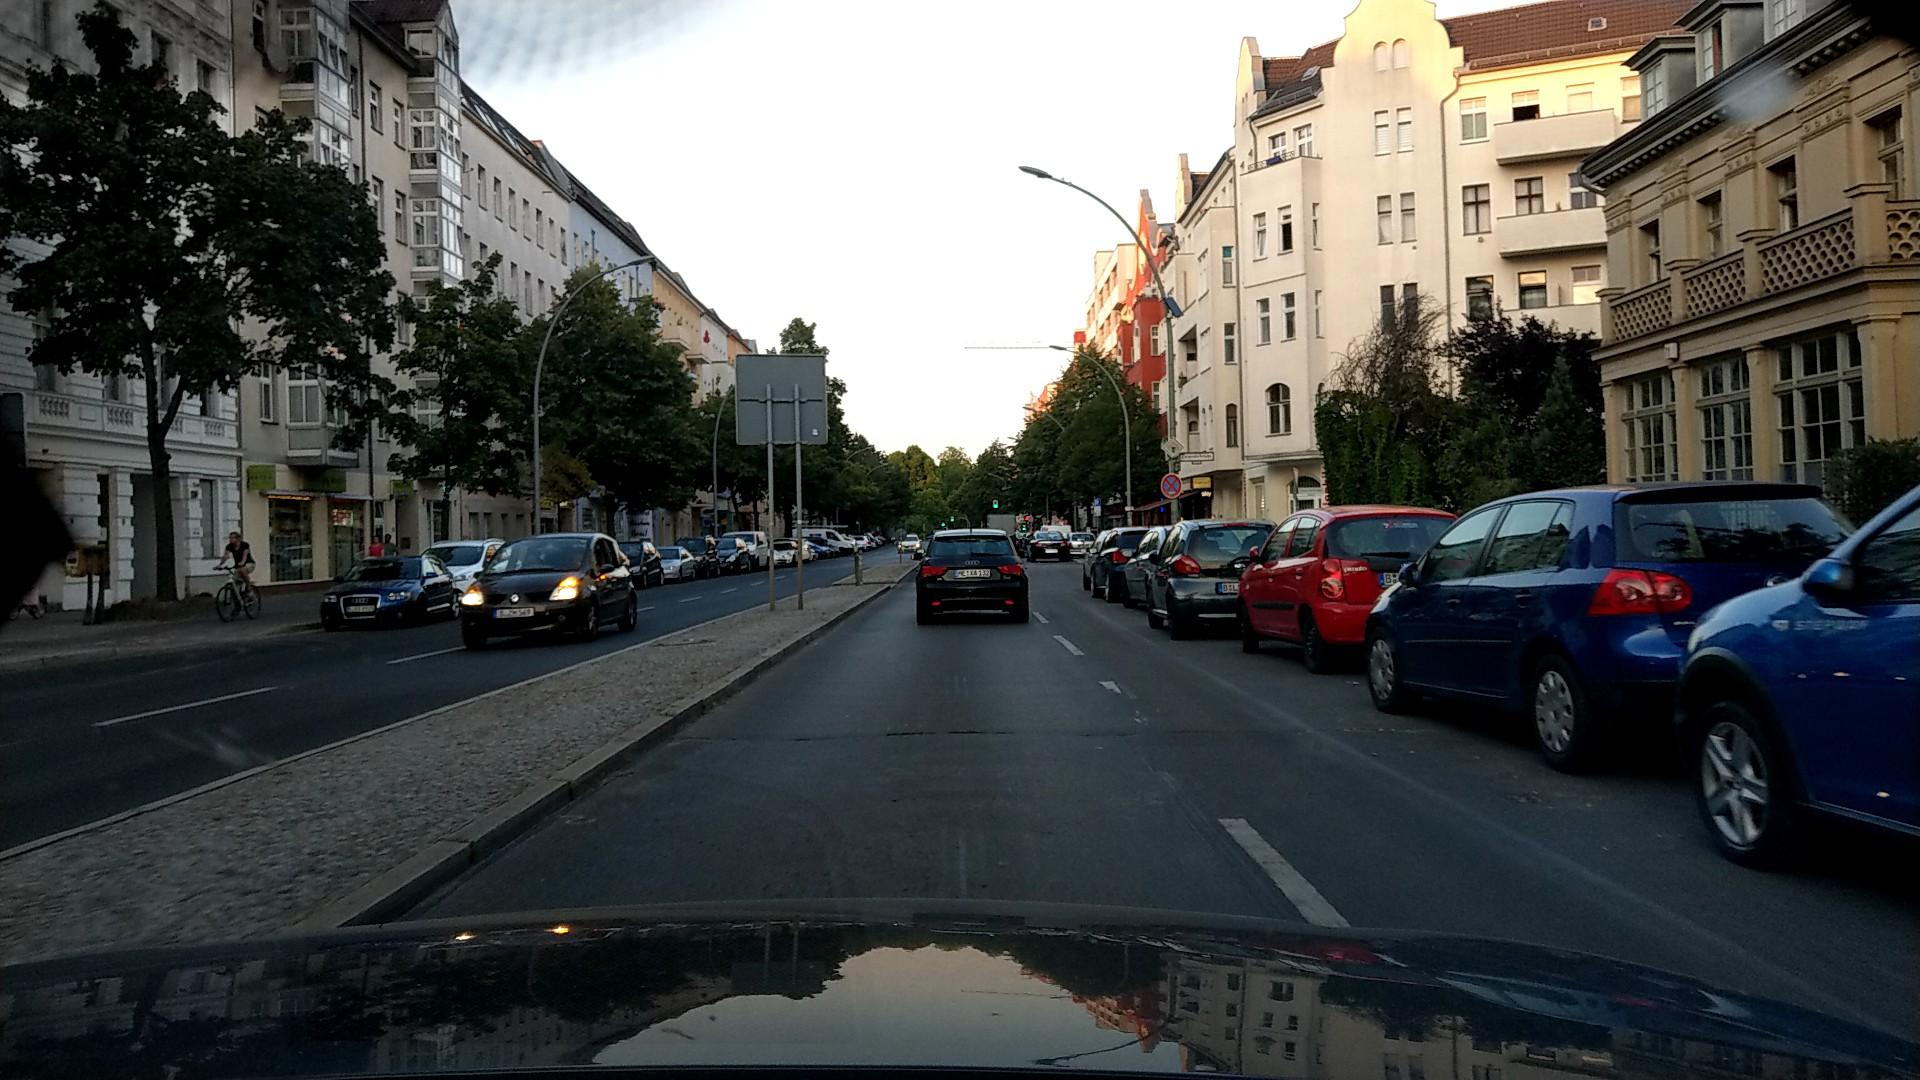Human face: (227, 532, 240, 545), (383, 534, 391, 543), (372, 536, 379, 544)
Vehicle registration plate: (491, 608, 534, 618), (952, 569, 990, 578), (345, 605, 374, 612)
